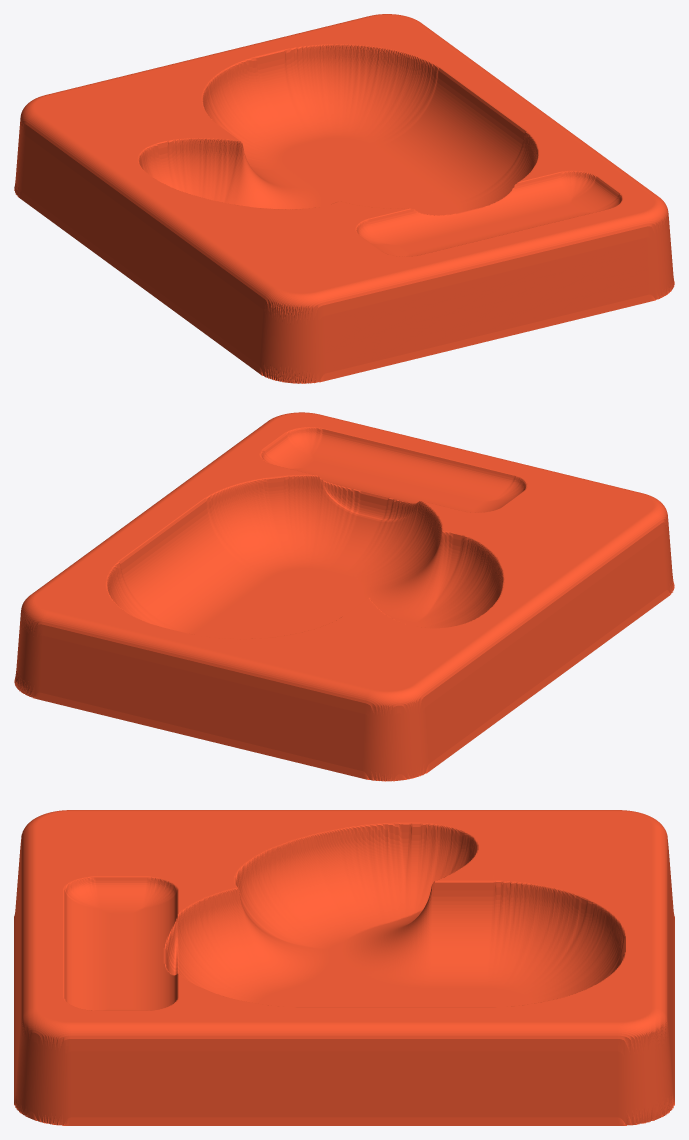
Rendered from mold.glb.
The picture shows the model from 3 angles, top to bottom: view 1: azimuth 30°, elevation 25°; view 2: azimuth 150°, elevation 25°; view 3: azimuth 270°, elevation 25°; orthographic projection. The views are drawn at different scales.
Visible parts, largest first — view 1: geometry_0; view 2: geometry_0; view 3: geometry_0.
Part boxes in pixels (x1=…): geometry_0: x1=14, y1=14, x2=674, y2=383; geometry_0: x1=14, y1=412, x2=674, y2=781; geometry_0: x1=14, y1=810, x2=674, y2=1125.
Size of the model in its own units: 0.0864 by 0.0165 by 0.105.
